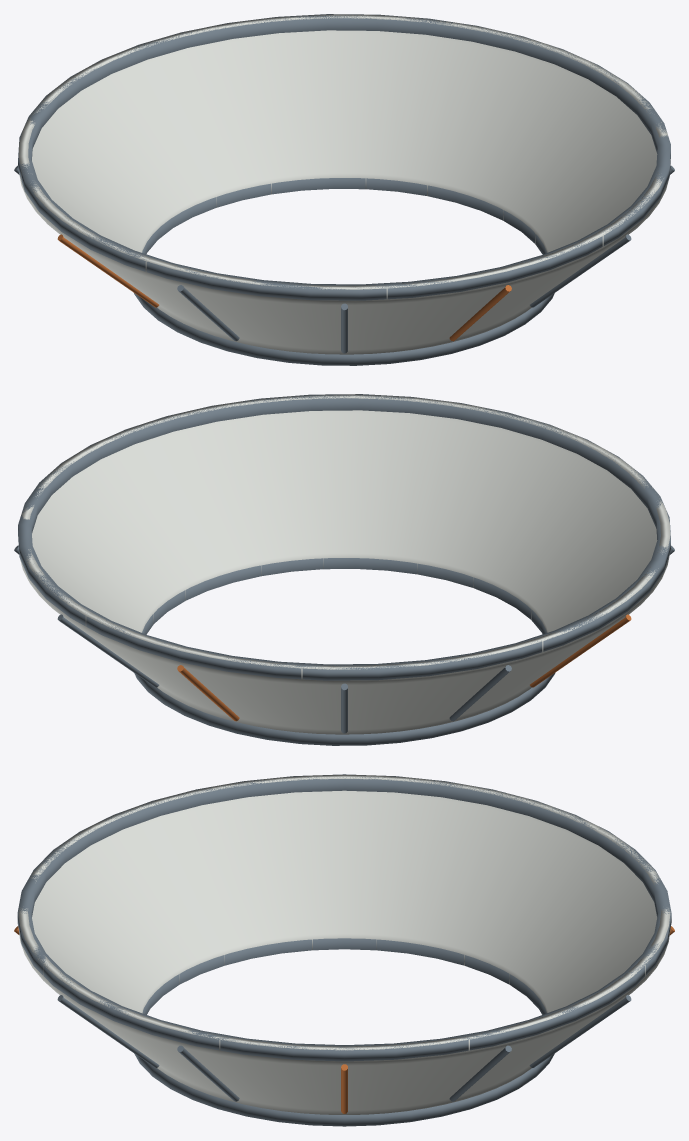
Rendered from jugre_adapter_250_381.glb.
The picture shows the model from 3 angles, top to bottom: view 1: azimuth 30°, elevation 25°; view 2: azimuth 150°, elevation 25°; view 3: azimuth 270°, elevation 25°; orthographic projection.
Visible parts, largest first — view 1: jugre_adapter_250_381.mesh_Pale_thermal_blanket, jugre_adapter_250_381.mesh_Machined_steel, jugre_adapter_250_381.mesh_Spray-on_insulation; view 2: jugre_adapter_250_381.mesh_Pale_thermal_blanket, jugre_adapter_250_381.mesh_Machined_steel, jugre_adapter_250_381.mesh_Spray-on_insulation; view 3: jugre_adapter_250_381.mesh_Pale_thermal_blanket, jugre_adapter_250_381.mesh_Machined_steel.
Part boxes in pixels (x1,y1,x2,y2): jugre_adapter_250_381.mesh_Pale_thermal_blanket: (18,14,669,354); jugre_adapter_250_381.mesh_Machined_steel: (14,14,674,365); jugre_adapter_250_381.mesh_Spray-on_insulation: (57,234,511,341); jugre_adapter_250_381.mesh_Pale_thermal_blanket: (20,394,670,734); jugre_adapter_250_381.mesh_Machined_steel: (14,394,674,745); jugre_adapter_250_381.mesh_Spray-on_insulation: (177,614,631,721); jugre_adapter_250_381.mesh_Pale_thermal_blanket: (18,775,670,1114); jugre_adapter_250_381.mesh_Machined_steel: (17,774,671,1126).
Size of the model in its own units: 3.86 by 0.7933 by 3.86.
